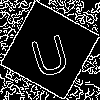U: (25, 25, 73, 79)
